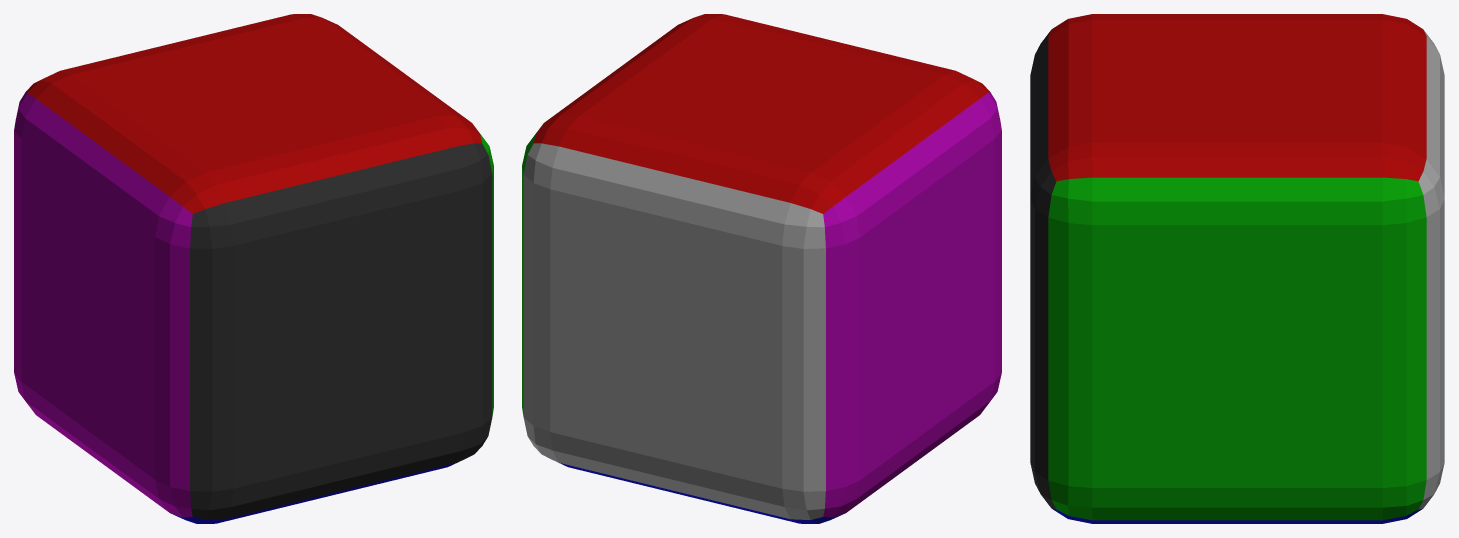
The model's file is rounded_cube.obj.
3 views of the same model, side by side, from view 1: azimuth 30°, elevation 25°; view 2: azimuth 150°, elevation 25°; view 3: azimuth 270°, elevation 25° (orthographic). The views are drawn at different scales.
Visible parts, largest first — view 1: Rounded_Cube_Mesh_Back, Rounded_Cube_Mesh_Right, Rounded_Cube_Mesh_Top, Rounded_Cube_Mesh_Bottom, Rounded_Cube_Mesh_Left; view 2: Rounded_Cube_Mesh_Front, Rounded_Cube_Mesh_Right, Rounded_Cube_Mesh_Top, Rounded_Cube_Mesh_Bottom, Rounded_Cube_Mesh_Left; view 3: Rounded_Cube_Mesh_Left, Rounded_Cube_Mesh_Top, Rounded_Cube_Mesh_Back, Rounded_Cube_Mesh_Front, Rounded_Cube_Mesh_Bottom.
Part boxes in pixels (<box>): Rounded_Cube_Mesh_Back: <box>190,143,492,519</box>; Rounded_Cube_Mesh_Right: <box>14,92,192,517</box>; Rounded_Cube_Mesh_Top: <box>26,14,481,213</box>; Rounded_Cube_Mesh_Bottom: <box>171,457,468,523</box>; Rounded_Cube_Mesh_Left: <box>478,131,493,416</box>; Rounded_Cube_Mesh_Front: <box>523,143,825,519</box>; Rounded_Cube_Mesh_Right: <box>823,92,1001,517</box>; Rounded_Cube_Mesh_Top: <box>534,14,989,213</box>; Rounded_Cube_Mesh_Bottom: <box>547,457,844,523</box>; Rounded_Cube_Mesh_Left: <box>522,131,537,416</box>; Rounded_Cube_Mesh_Left: <box>1048,177,1426,520</box>; Rounded_Cube_Mesh_Top: <box>1048,14,1426,181</box>; Rounded_Cube_Mesh_Back: <box>1030,30,1056,509</box>; Rounded_Cube_Mesh_Front: <box>1418,30,1444,509</box>; Rounded_Cube_Mesh_Bottom: <box>1052,508,1422,523</box>.
Size of the model in its own units: 1 by 1 by 1.
